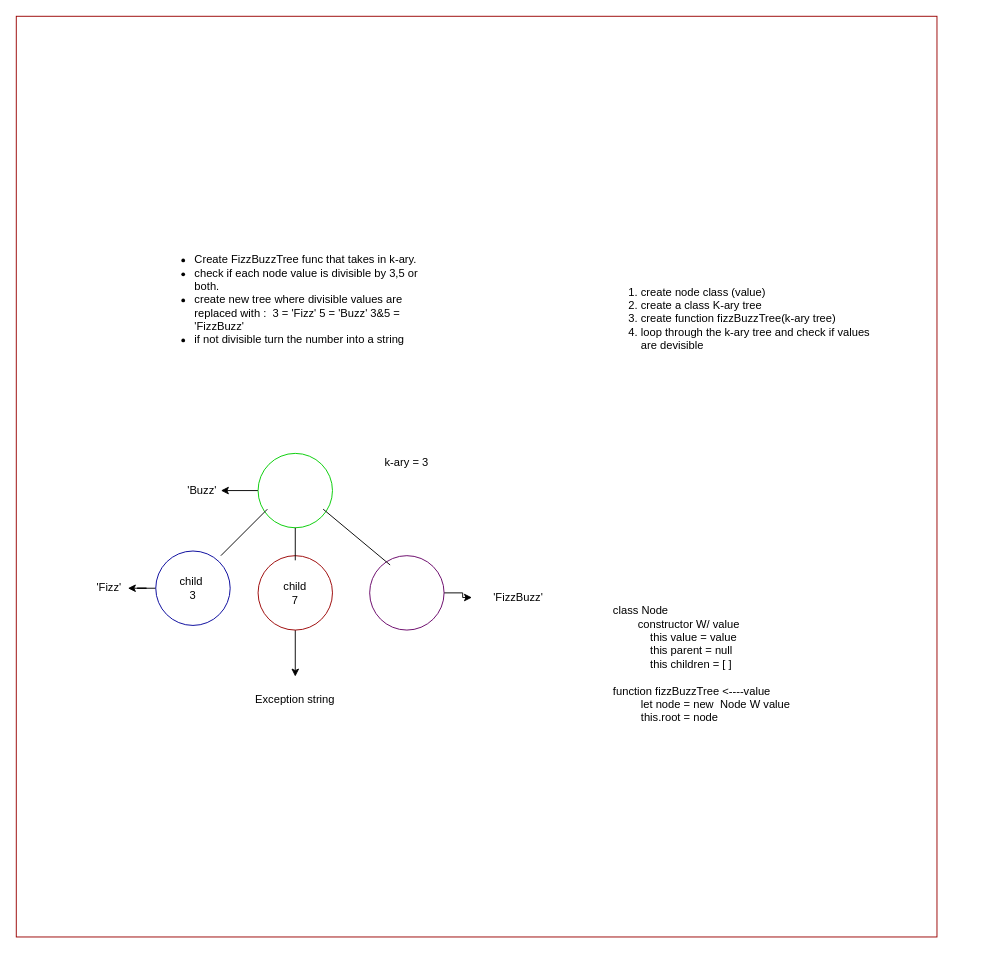
Some shapes in this 981 by 953 pixel diagram are drawn without their labels. The centre of each missing label's shape, as x and y in pixels:
child 15: pixel 406 592
Root 5: pixel 294 490
